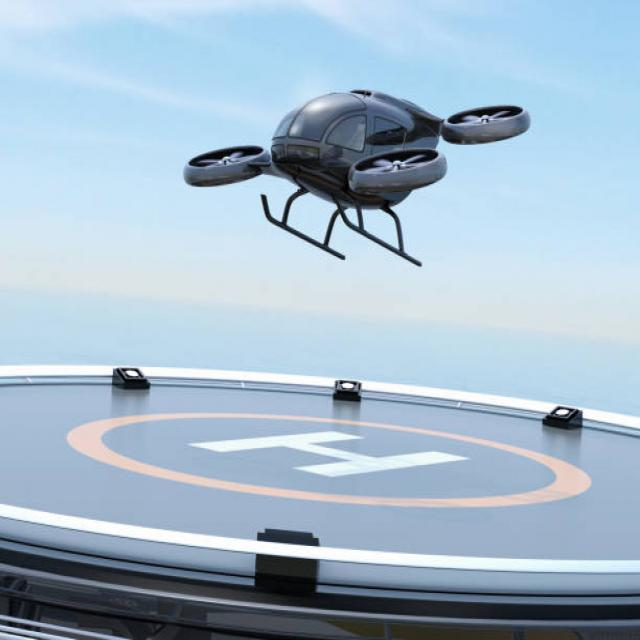helipad: (59, 402, 595, 512)
